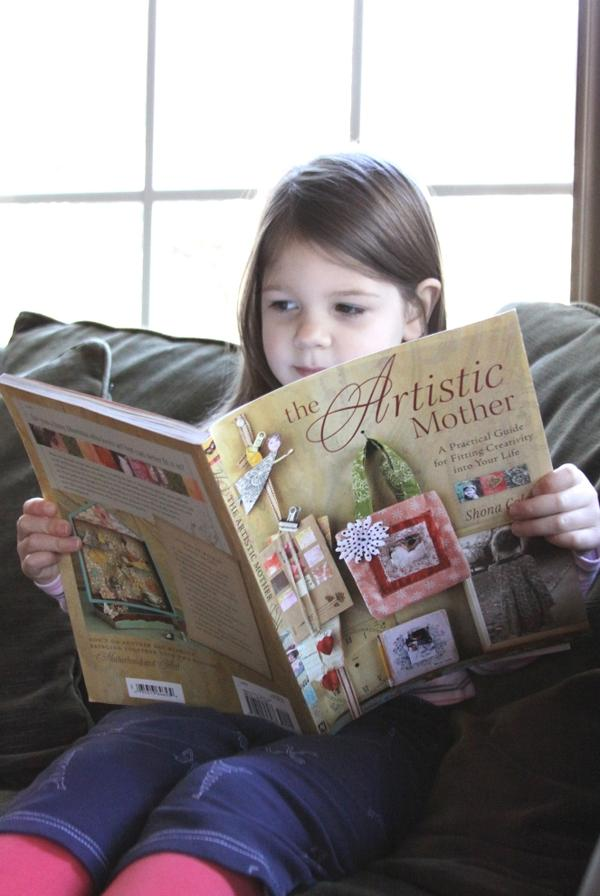person: (3, 157, 600, 896)
